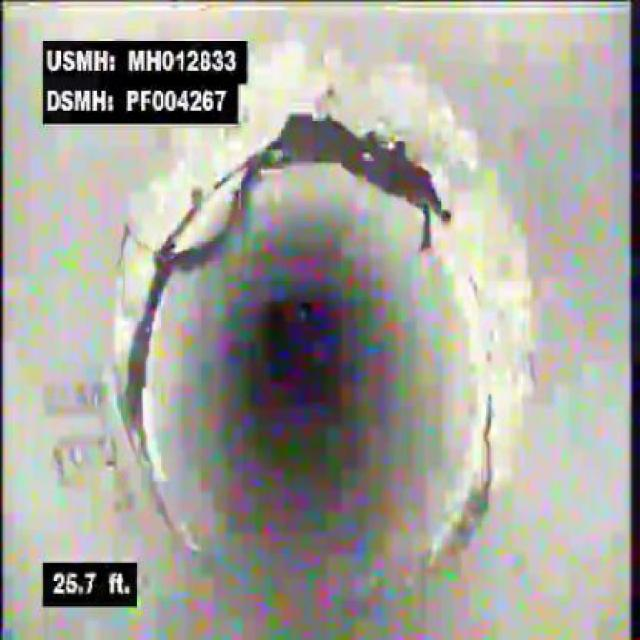Joint offset: (262, 37, 549, 580), (91, 128, 254, 509)
